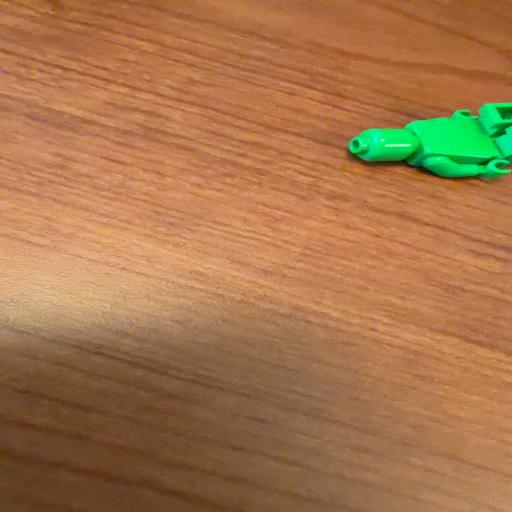UnoQ-minifig-detector: (347, 101, 512, 181)
